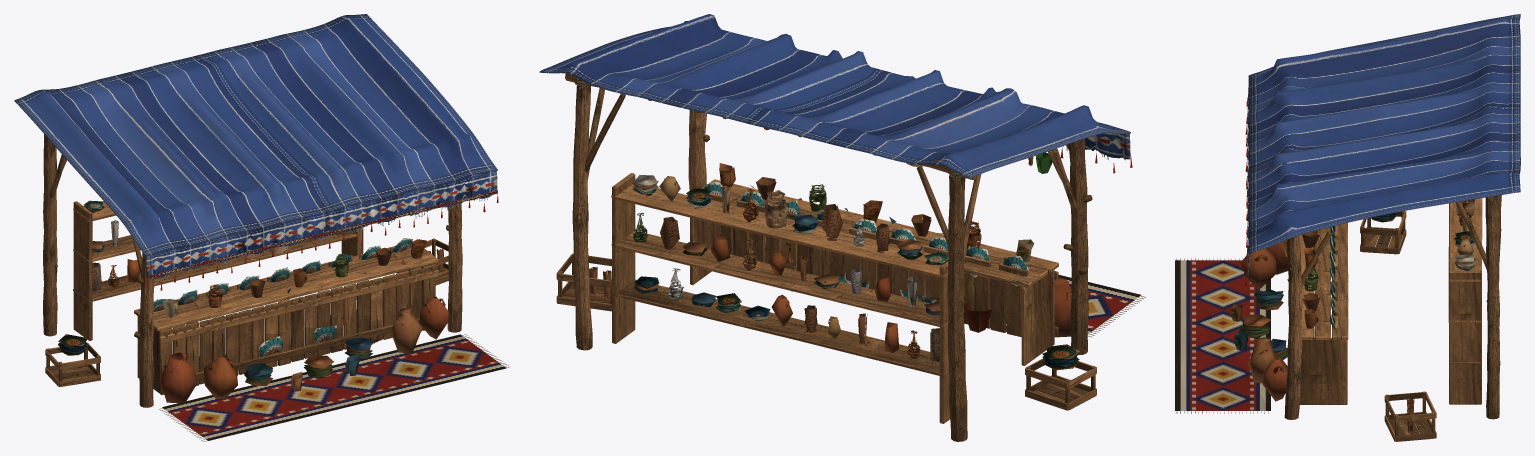
The model's file is village-kiosk-3-v5-lite.glb.
3 renders of one model, left to right at view 1: azimuth 30°, elevation 25°; view 2: azimuth 150°, elevation 25°; view 3: azimuth 270°, elevation 25°, orthographic. The views are drawn at different scales.
Visible parts, largest first — view 1: K3_Cloth, K3_Wood, K3_Props, K3_Bark; view 2: K3_Cloth, K3_Wood, K3_Props, K3_Bark; view 3: K3_Cloth, K3_Props, K3_Wood, K3_Bark.
Boxes of the visible parts, <box> form: K3_Cloth: <box>14,14,497,279</box>; K3_Wood: <box>45,201,448,394</box>; K3_Props: <box>58,190,509,441</box>; K3_Bark: <box>43,134,462,407</box>; K3_Cloth: <box>539,14,1130,178</box>; K3_Wood: <box>556,144,1096,423</box>; K3_Props: <box>573,77,1145,370</box>; K3_Bark: <box>565,73,1093,441</box>; K3_Cloth: <box>1247,14,1520,277</box>; K3_Props: <box>1175,97,1498,434</box>; K3_Wood: <box>1300,198,1482,441</box>; K3_Bark: <box>1284,195,1501,419</box>.
Size of the model in its own units: 5.43 by 2.95 by 3.78.
Materials: 4 (4 with a texture image).
